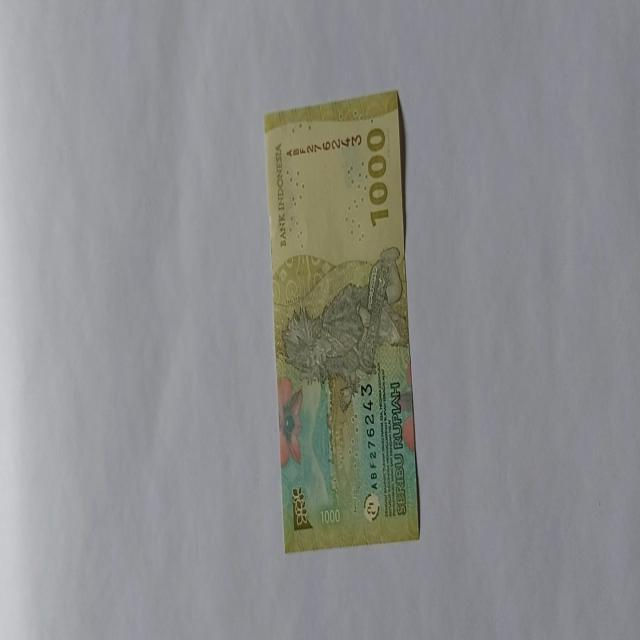seribu rupiah kertas: (262, 89, 420, 553)
